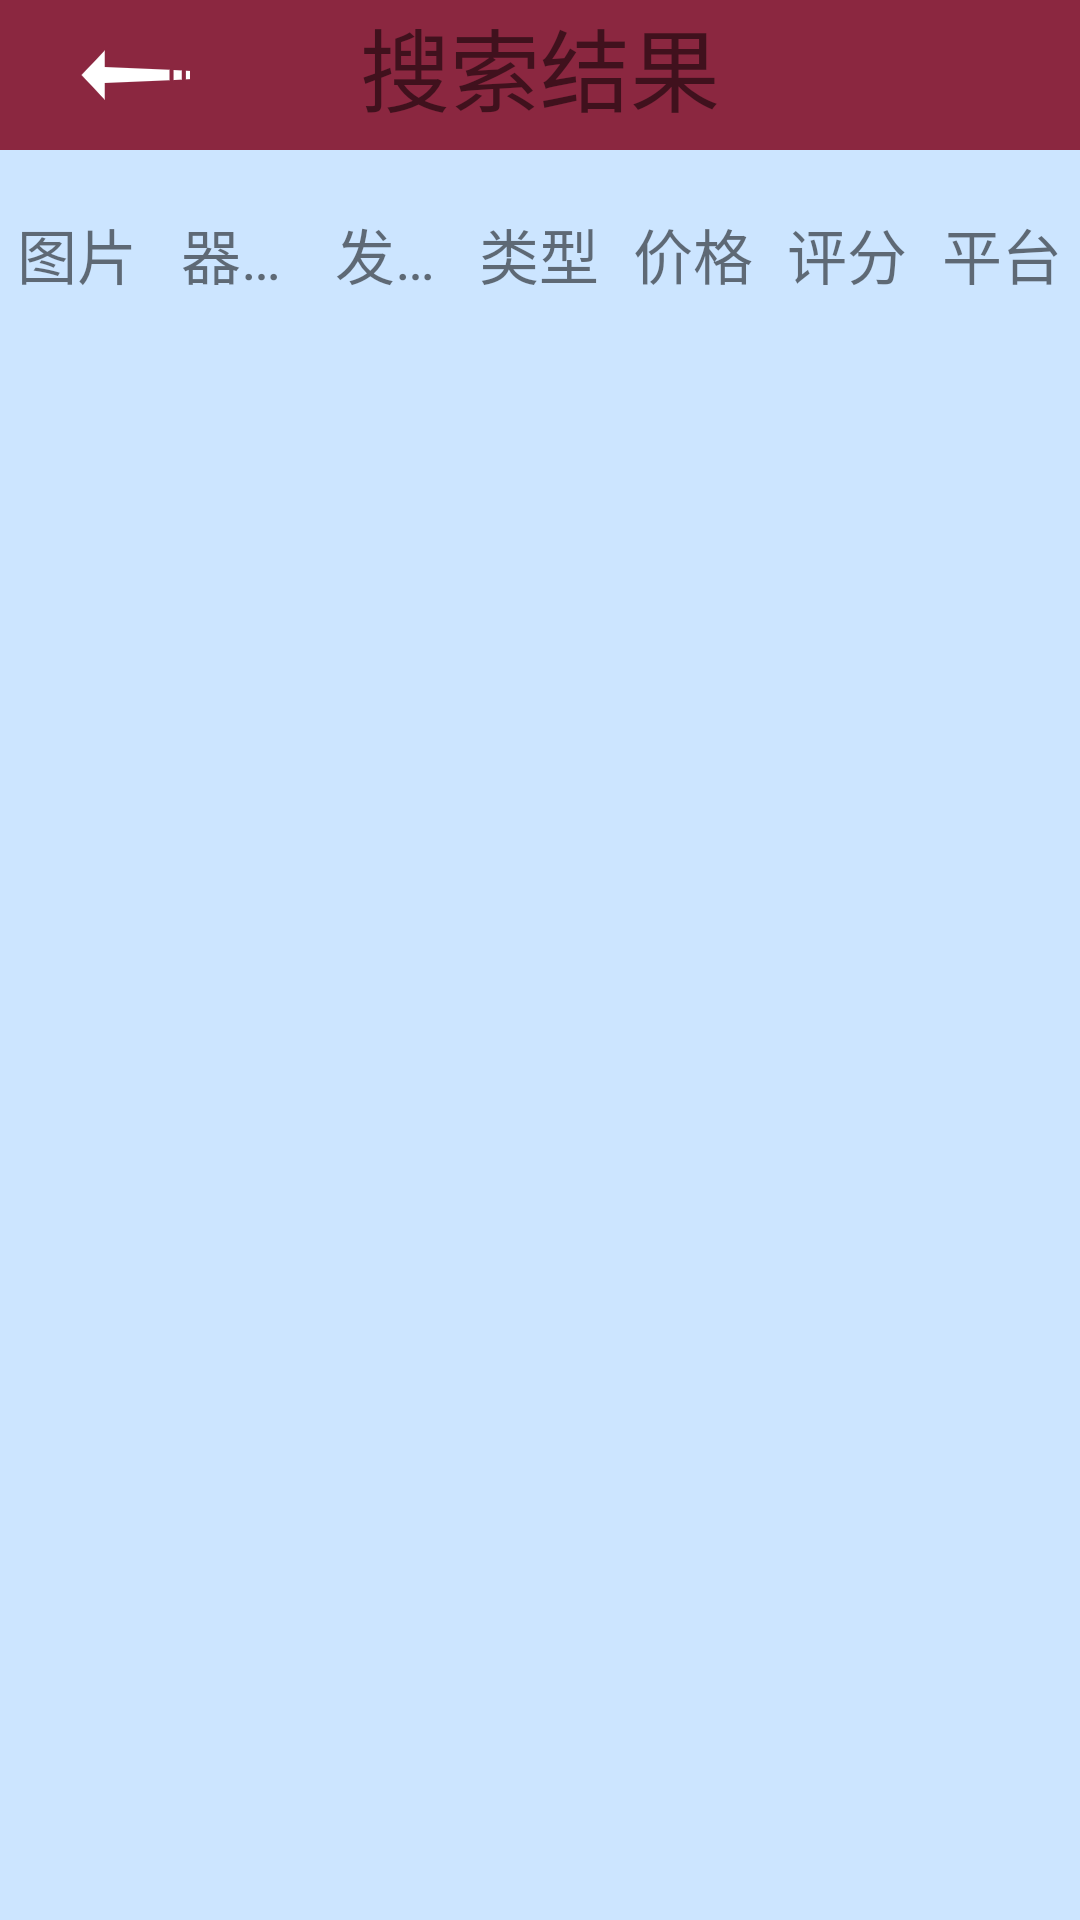

Icon bounding boxes for this 1080x1920 phone screenshot, format region(x1, y1, x2, y2):
left arrow: region(81, 50, 190, 100)
